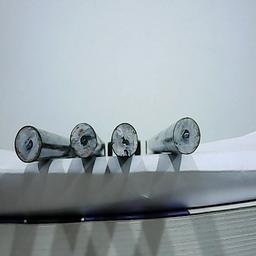pen: (173, 115, 201, 155), (67, 121, 97, 157), (14, 124, 41, 163), (111, 121, 138, 160)
